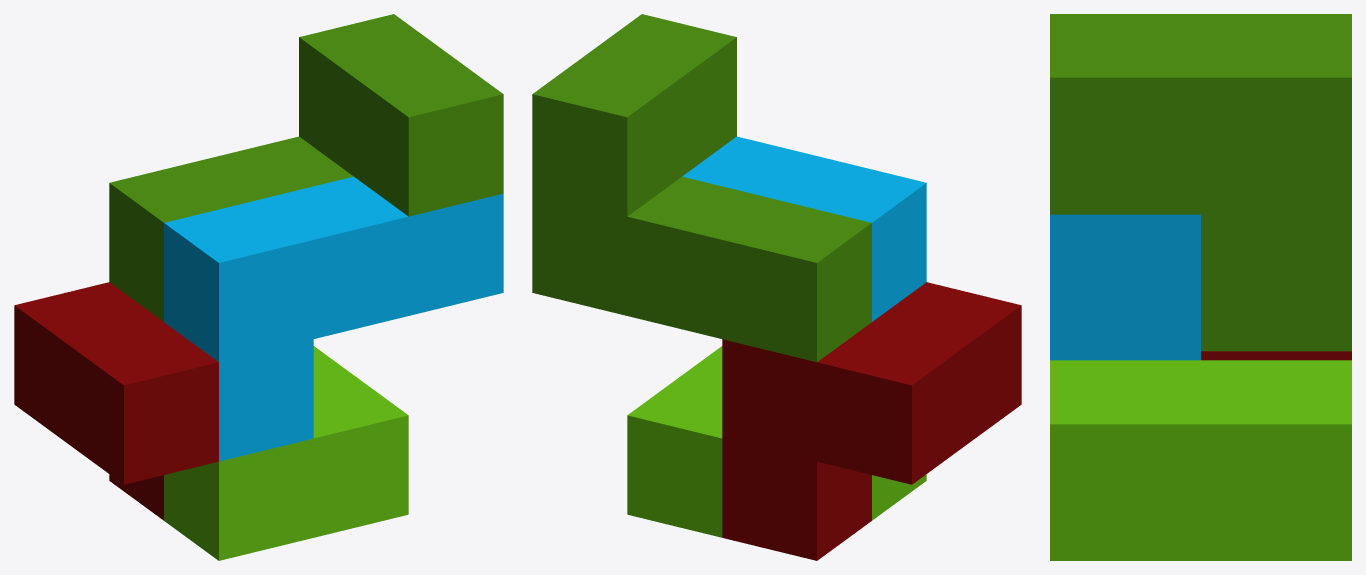
3 renders of one model, left to right at view 1: azimuth 30°, elevation 25°; view 2: azimuth 150°, elevation 25°; view 3: azimuth 270°, elevation 25°, orthographic. The views are drawn at different scales.
Parts seen in each view (by area): view 1: mergedBlocks(Clone); view 2: mergedBlocks(Clone); view 3: mergedBlocks(Clone).
Boxes of the visible parts, box(x1,y1,x2,y2) form: mergedBlocks(Clone): box(14, 14, 503, 560); mergedBlocks(Clone): box(532, 14, 1021, 560); mergedBlocks(Clone): box(1050, 14, 1351, 560).
Bounding box in the file's own units: 4 × 4 × 2.
4 materials, 4 textured.
